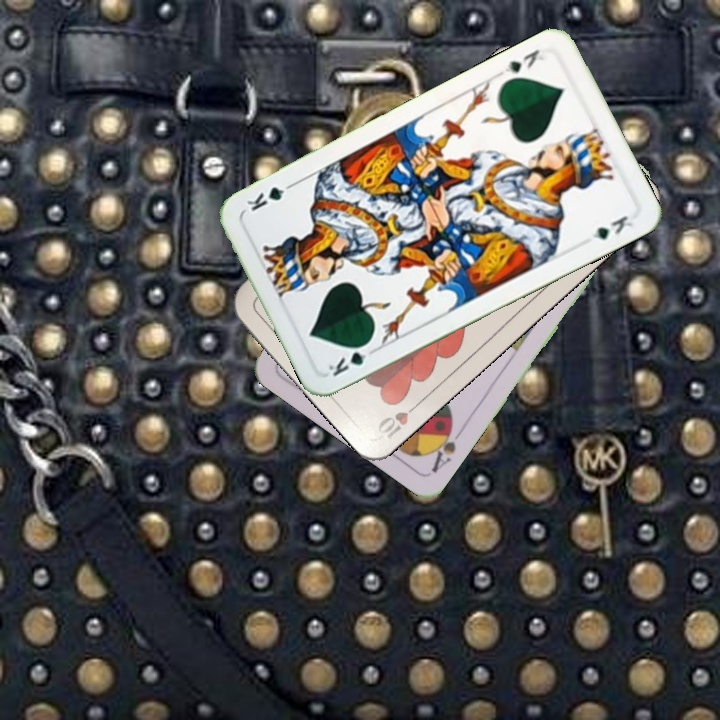GK: (324, 337, 379, 380), (495, 45, 546, 79)
H10: (373, 396, 425, 442)
SA: (425, 417, 459, 476)
